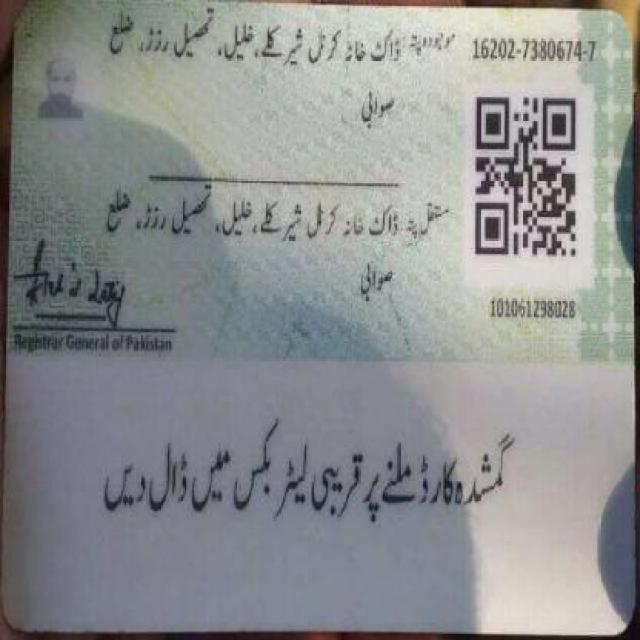Back: (11, 4, 624, 618)
